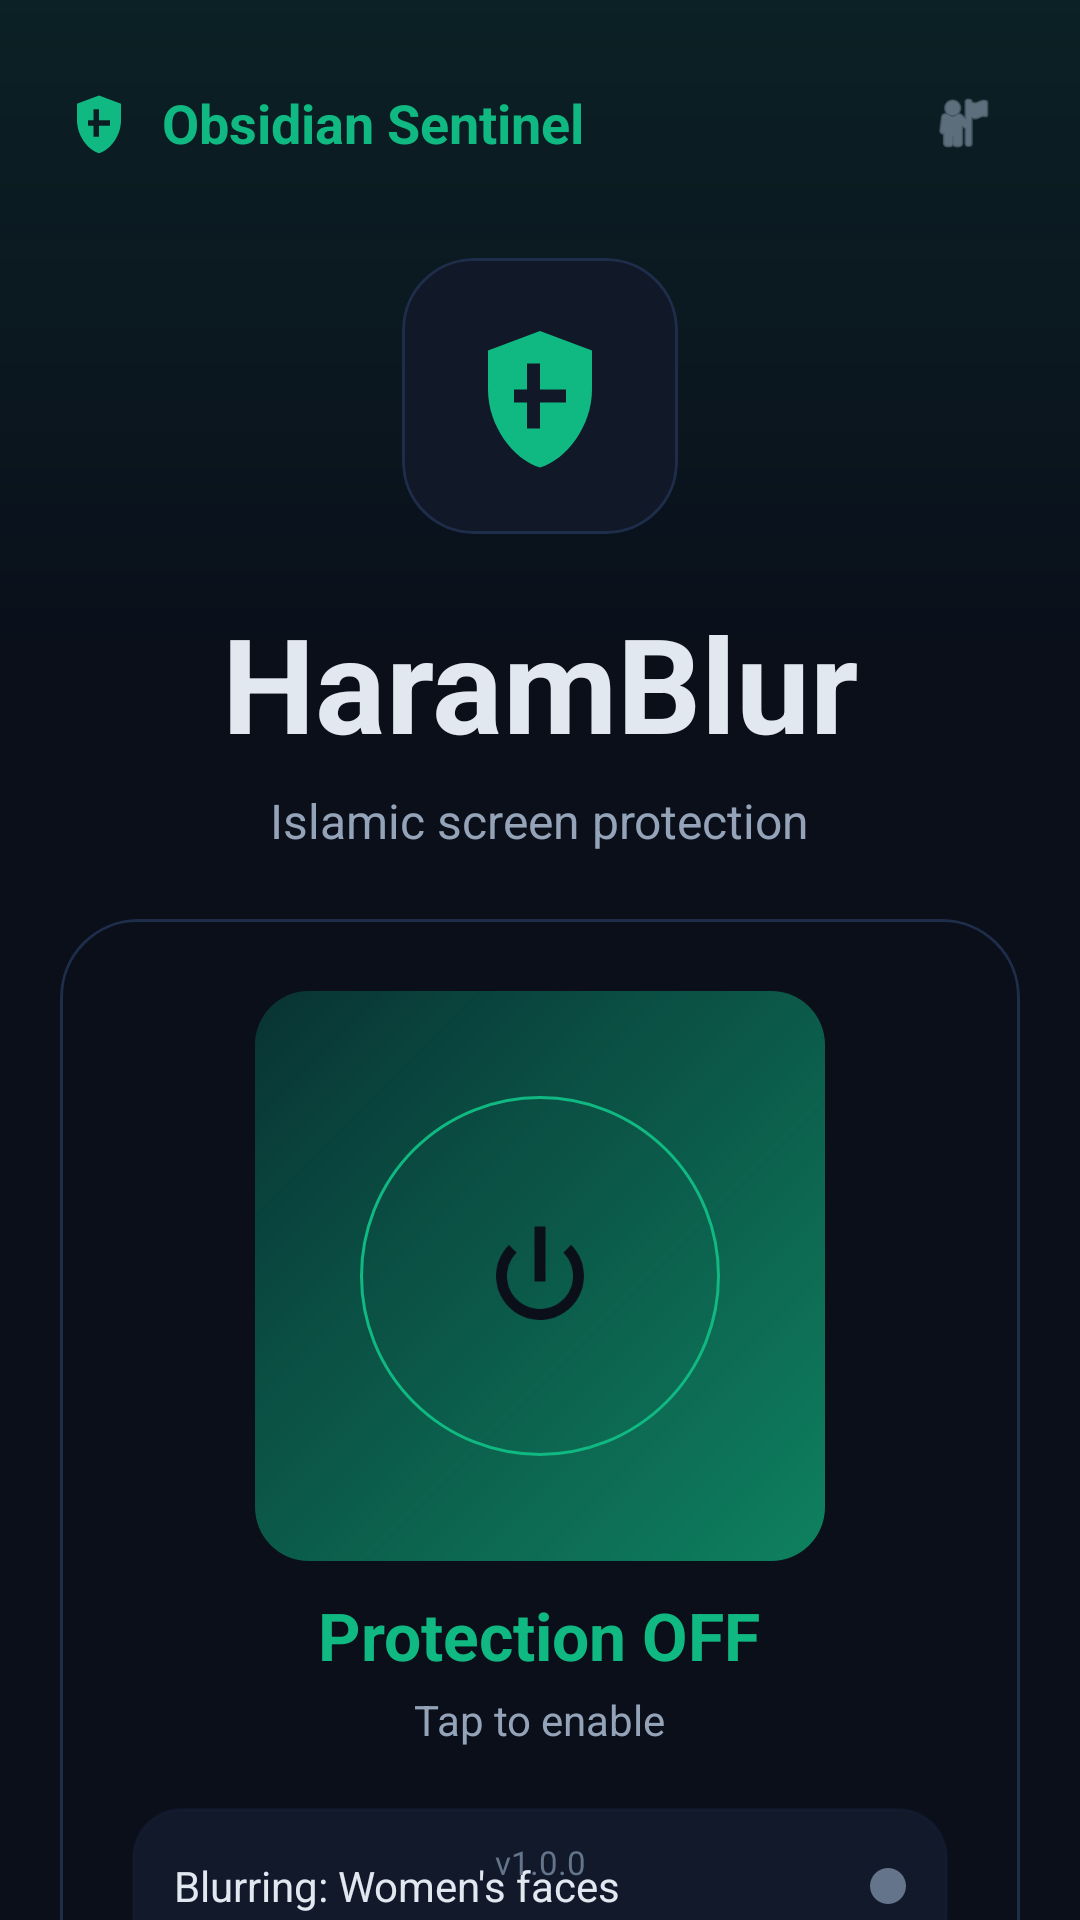

Icon click points for this 1080 x 1920 phone screenshot, format point (x, y):
shield: point (99, 124), point (540, 396)
